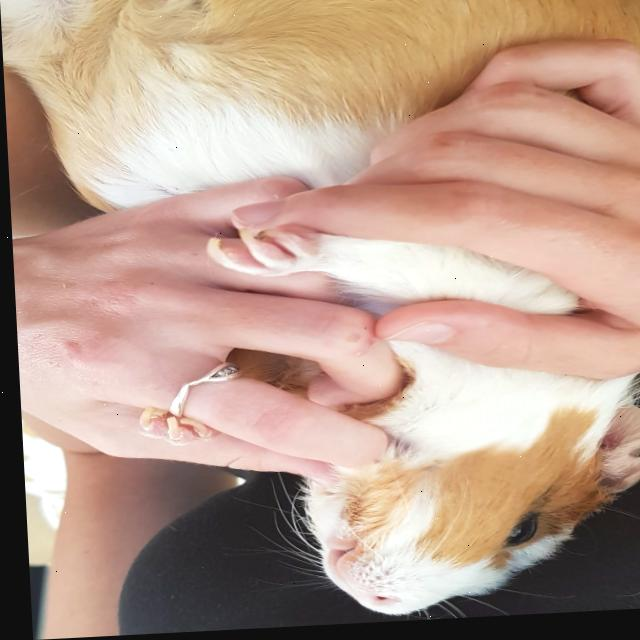guinea pig: (10, 0, 640, 637)
